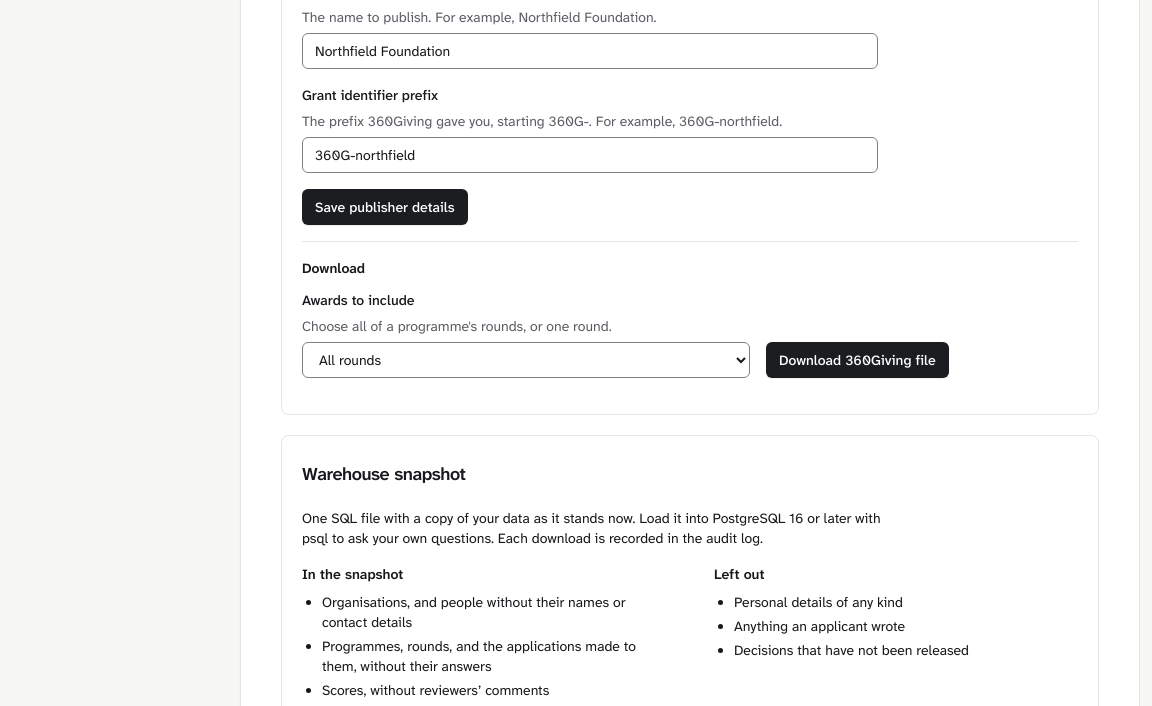
Test case: the 360Giving file › downloads the chosen round, saves the file and says how many grants and which recipients to check
(page scrolled)
Select "Autumn 2026" in the dropdown labelled "Awards to include" at coordinates (526, 360), box [302,342,750,378]
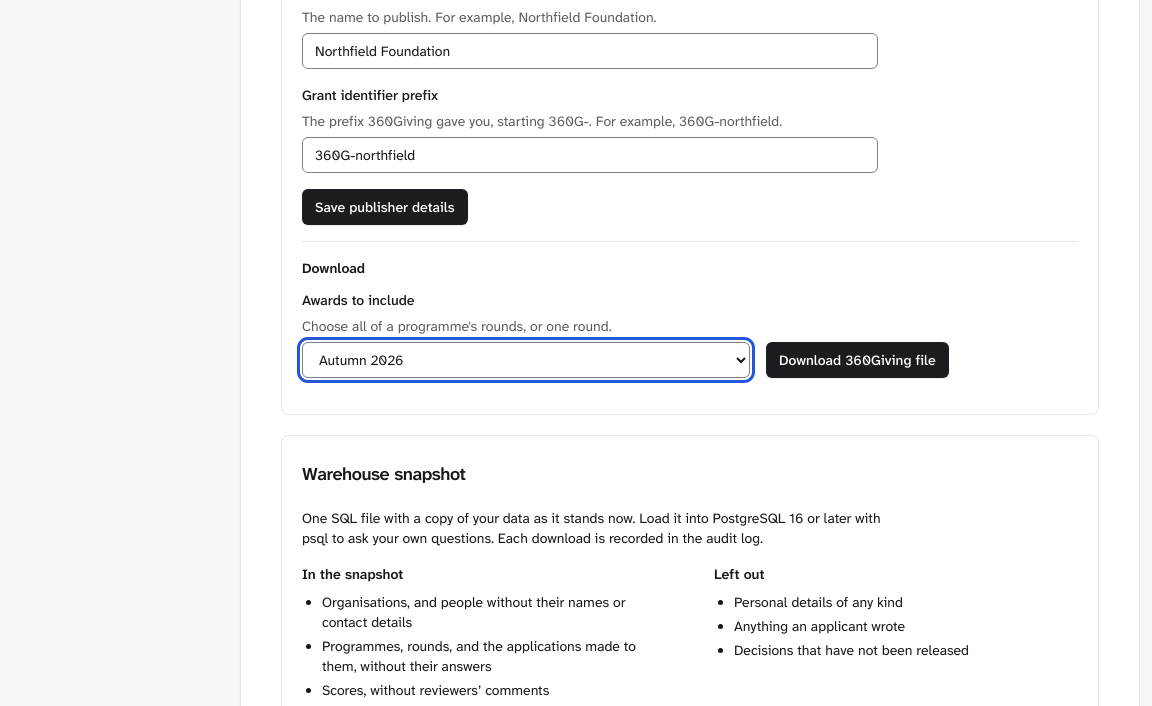
Click the button "Download 360Giving file" at coordinates (857, 360), box [766,342,949,378]
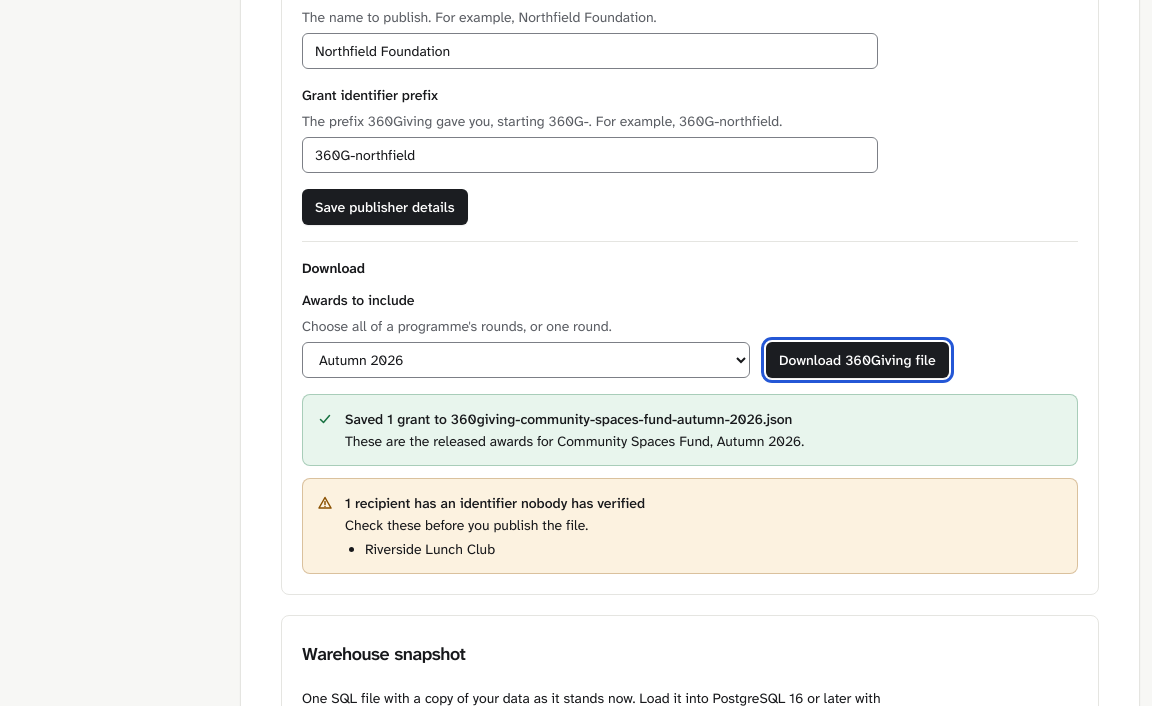
Expected: the text "Saved 1 grant to 360giving-community-spaces-fund-autumn-2026.json" is shown, [345,410,792,428]
Expected: the list item "Riverside Lunch Club" is shown, [365,540,495,558]
